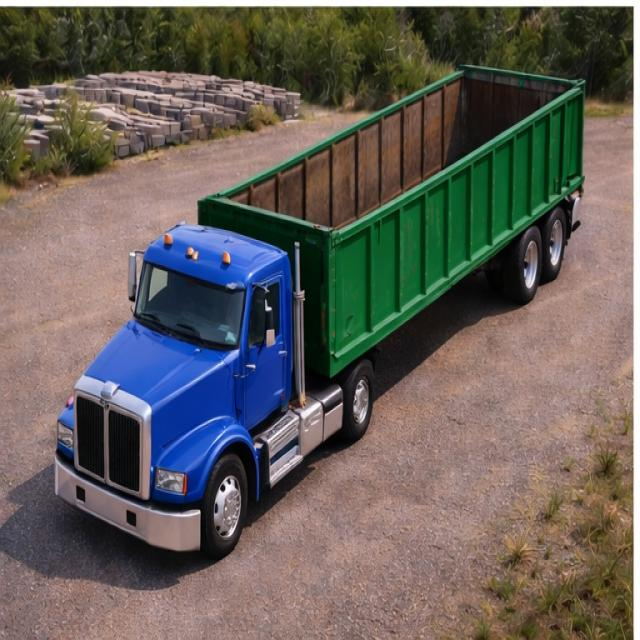Box: (199, 63, 589, 223)
Truck: (49, 28, 591, 562)
